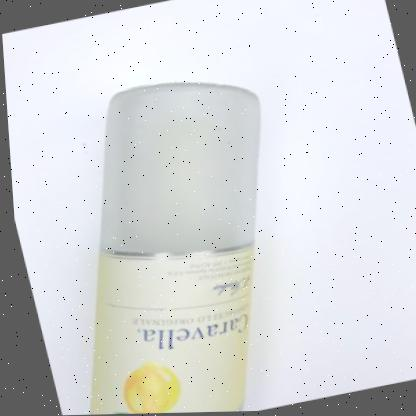Glass: (83, 83, 257, 415)
